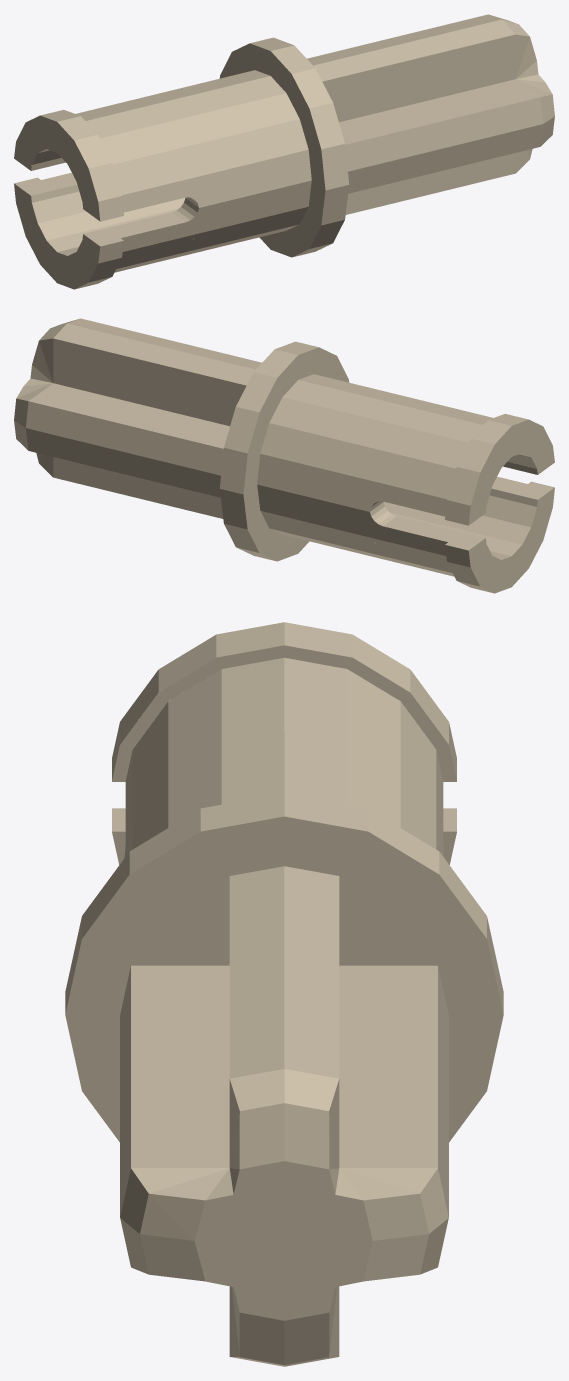
The picture shows the model from 3 angles, top to bottom: view 1: azimuth 30°, elevation 25°; view 2: azimuth 150°, elevation 25°; view 3: azimuth 270°, elevation 25°; orthographic projection. The views are drawn at different scales.
Visible parts, largest first — view 1: world; view 2: world; view 3: world.
Boxes of the visible parts, x1,y1,x2,y2 form: world: (14, 14, 554, 289); world: (14, 318, 554, 593); world: (65, 622, 503, 1366).
Size of the model in its own units: 0.0158 by 0.0064 by 0.0064.
